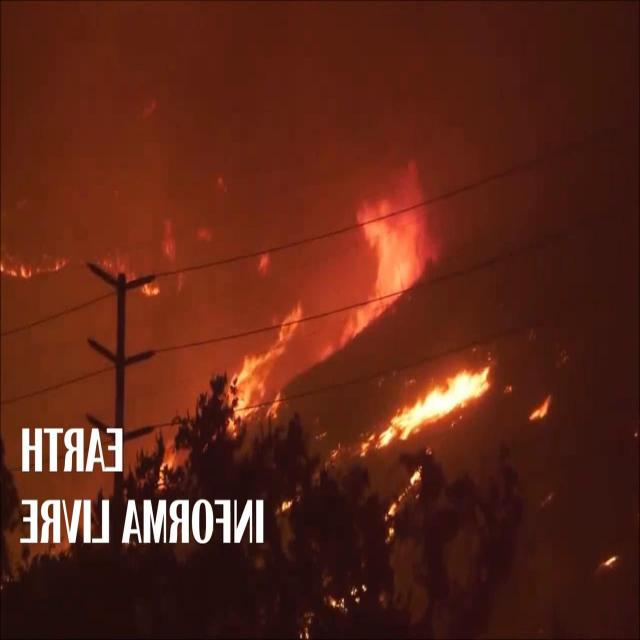fire: (231, 142, 441, 433), (351, 363, 490, 443)
